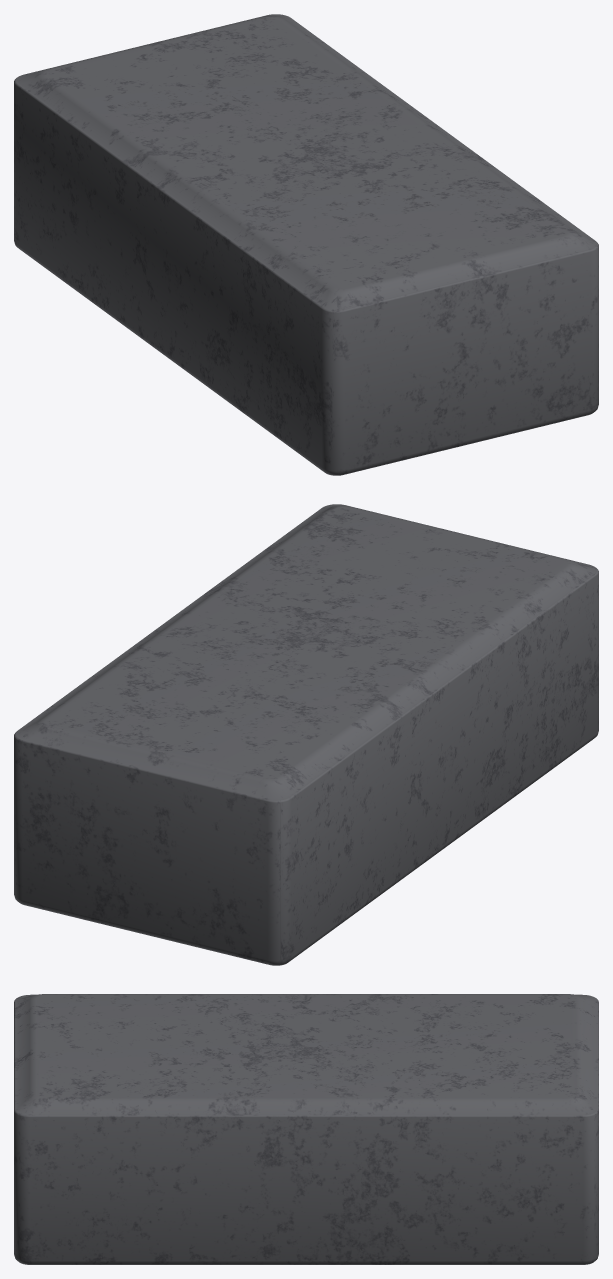
The model's file is Colonial Classic.gltf.
The picture shows the model from 3 angles, top to bottom: view 1: azimuth 30°, elevation 25°; view 2: azimuth 150°, elevation 25°; view 3: azimuth 270°, elevation 25°; orthographic projection. The views are drawn at different scales.
Parts seen in each view (by area): view 1: Colonial Classic; view 2: Colonial Classic; view 3: Colonial Classic.
Part boxes in pixels (<box>): Colonial Classic: <box>14,14,598,475</box>; Colonial Classic: <box>14,504,598,965</box>; Colonial Classic: <box>14,994,598,1264</box>.
Size of the model in its own units: 0.0984 by 0.0603 by 0.2.
Materials: 1 (1 with a texture image).
